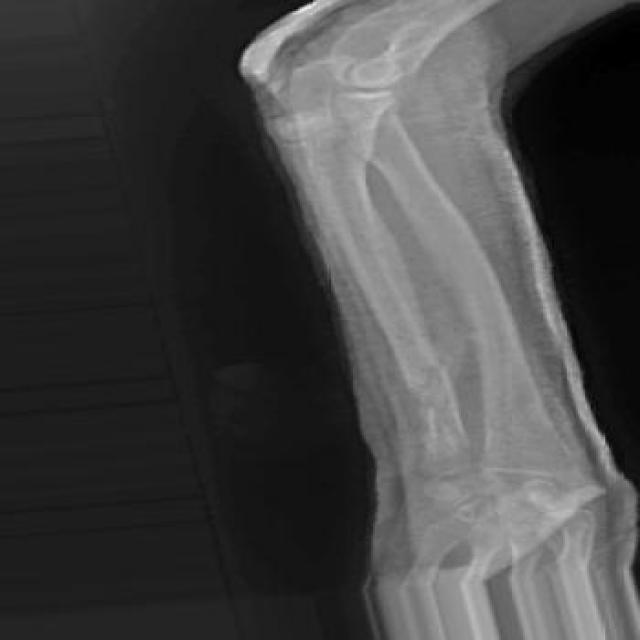Fracture: (411, 350, 464, 420)
